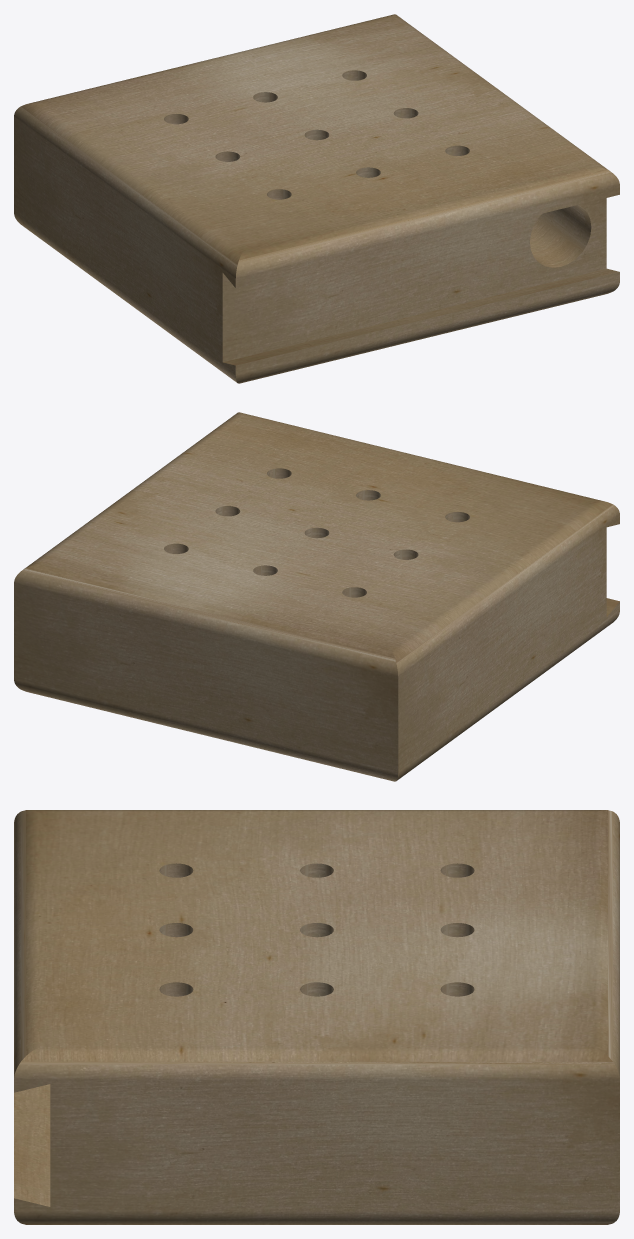
The model's file is base_nine_hole.glb.
3 renders of one model, top to bottom at view 1: azimuth 30°, elevation 25°; view 2: azimuth 150°, elevation 25°; view 3: azimuth 270°, elevation 25°, orthographic. The views are drawn at different scales.
Parts seen in each view (by area): view 1: SM_Base_NineHole; view 2: SM_Base_NineHole; view 3: SM_Base_NineHole.
Boxes of the visible parts, x1,y1,x2,y2 form: SM_Base_NineHole: [14, 14, 619, 383]; SM_Base_NineHole: [14, 412, 619, 781]; SM_Base_NineHole: [14, 810, 619, 1224].
Bounding box in the file's own units: 0.125 × 0.0398 × 0.125.
1 material, 1 textured.
